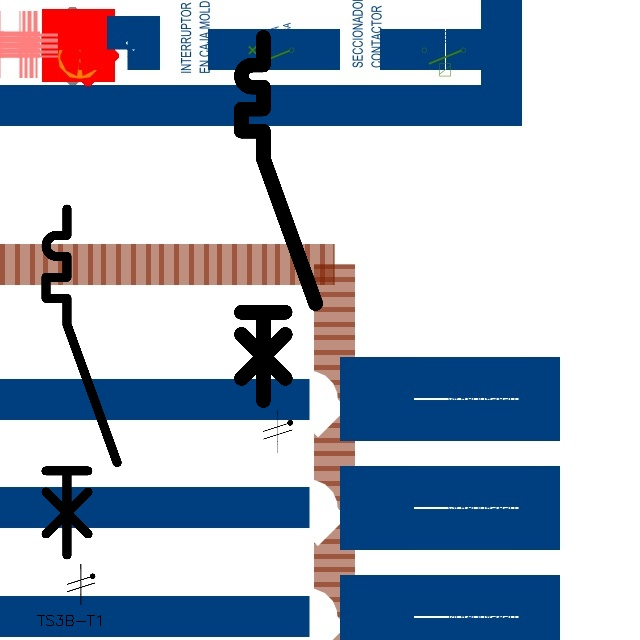interruptor_termomagnetico: (232, 28, 325, 410), (37, 200, 126, 564)
